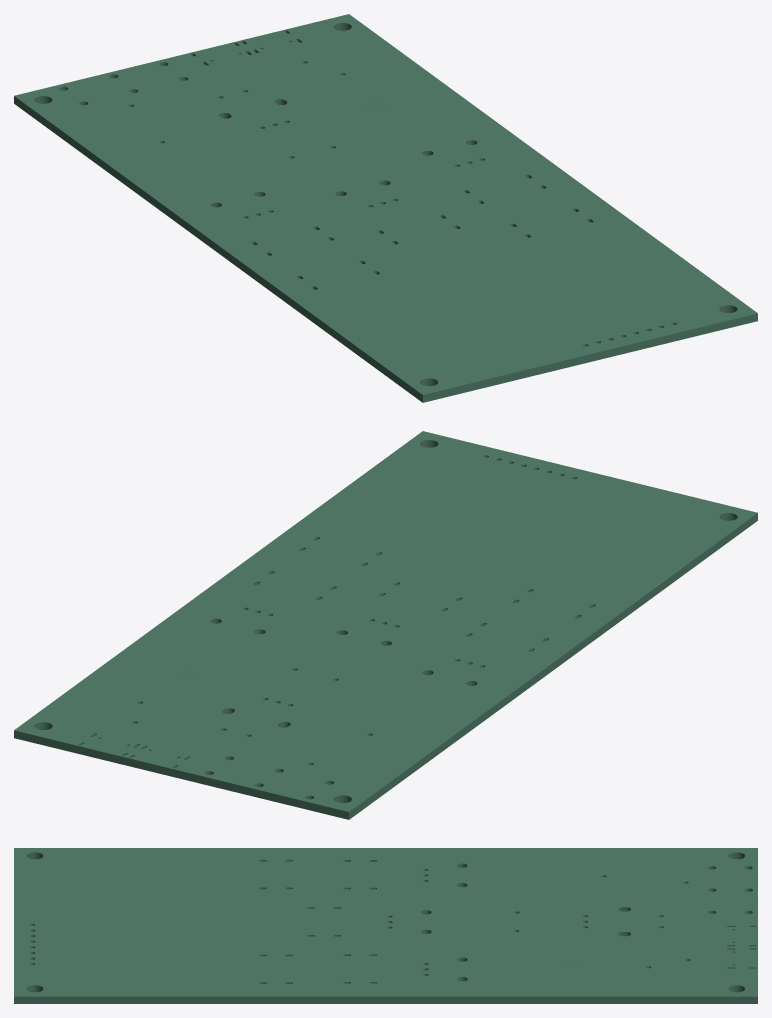
Rendered from pcb.glb.
The picture shows the model from 3 angles, top to bottom: view 1: azimuth 30°, elevation 25°; view 2: azimuth 150°, elevation 25°; view 3: azimuth 270°, elevation 25°; orthographic projection. The views are drawn at different scales.
Visible parts, largest first — view 1: =>[0:1:1:2]; view 2: =>[0:1:1:2]; view 3: =>[0:1:1:2].
Part boxes in pixels (x1,y1,x2,y2): =>[0:1:1:2]: (14, 14, 757, 402); =>[0:1:1:2]: (14, 431, 757, 819); =>[0:1:1:2]: (14, 848, 757, 1003).
Size of the model in its own units: 0.0674 by 0.00151 by 0.1423.
